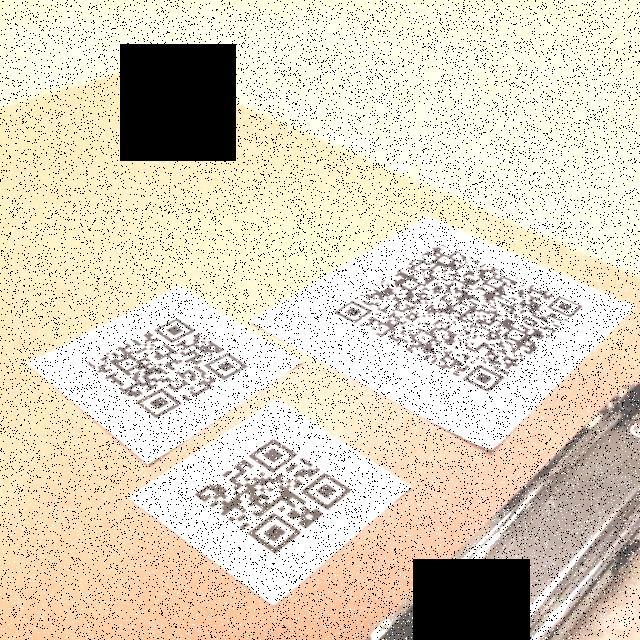QR_CODE: (328, 238, 592, 402), (184, 432, 362, 562), (79, 310, 255, 425)
